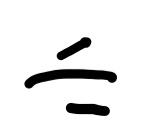div: (21, 37, 117, 117)
